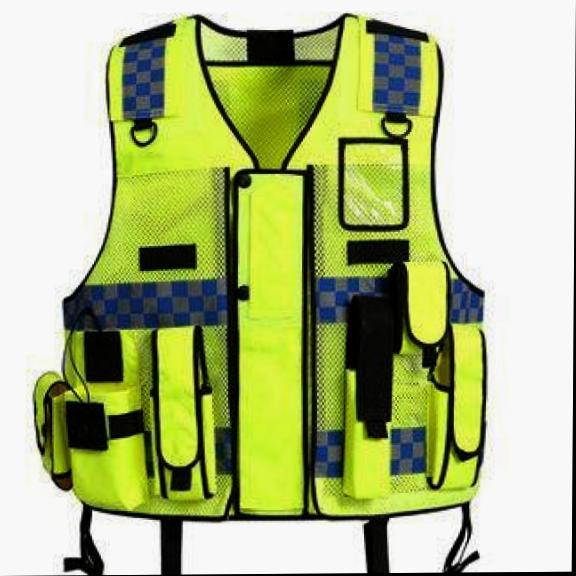safety_vest: (28, 10, 492, 526)
